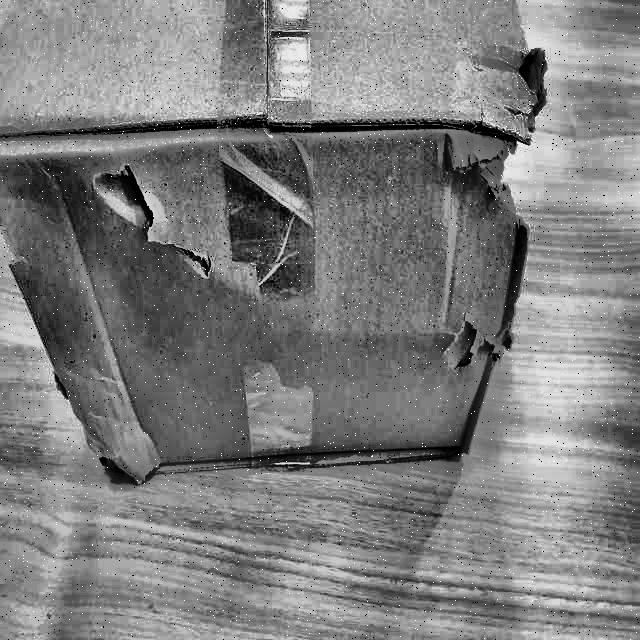box: (1, 0, 560, 487)
hole: (93, 157, 213, 311), (459, 43, 545, 253)
